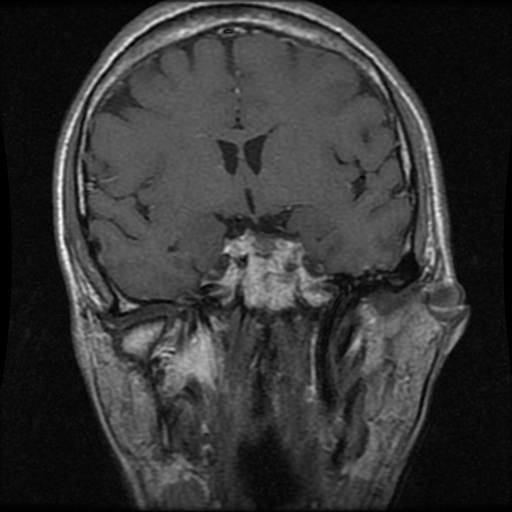pituitary: (226, 229, 328, 309)
